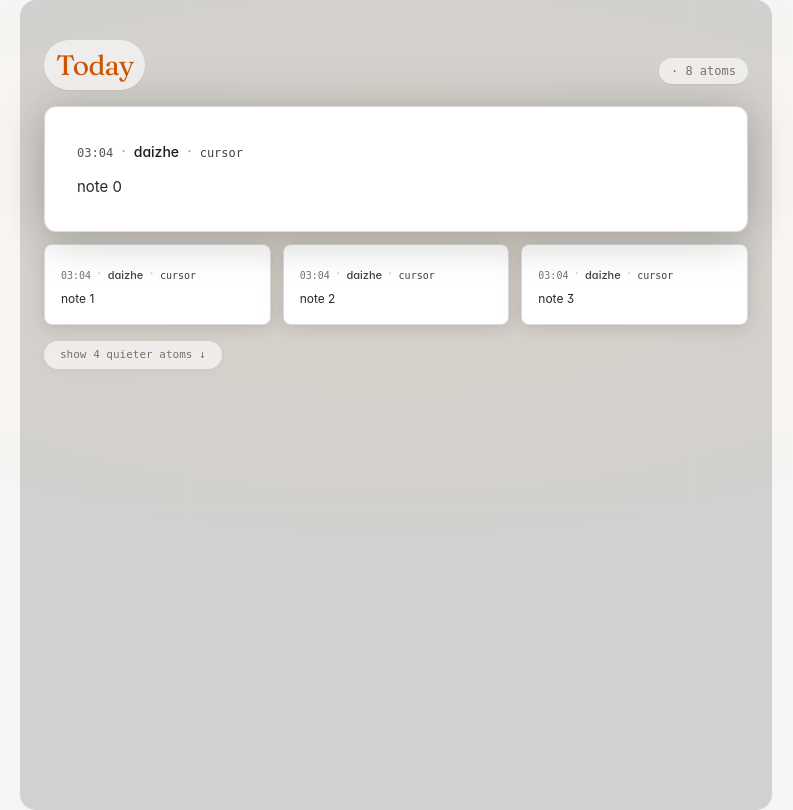
Test: v1.23 DailyMemoryPages render (Depth Canvas) › show-N-more reveals the rest then collapses with show-less
The width and height of the screenshot is (793, 810).
# Click expands.
What coordinates should you click on to do the following:
click the button with test id "day-show-more"
I would click on:
 (133, 355)
Its box is [44,341,222,369].
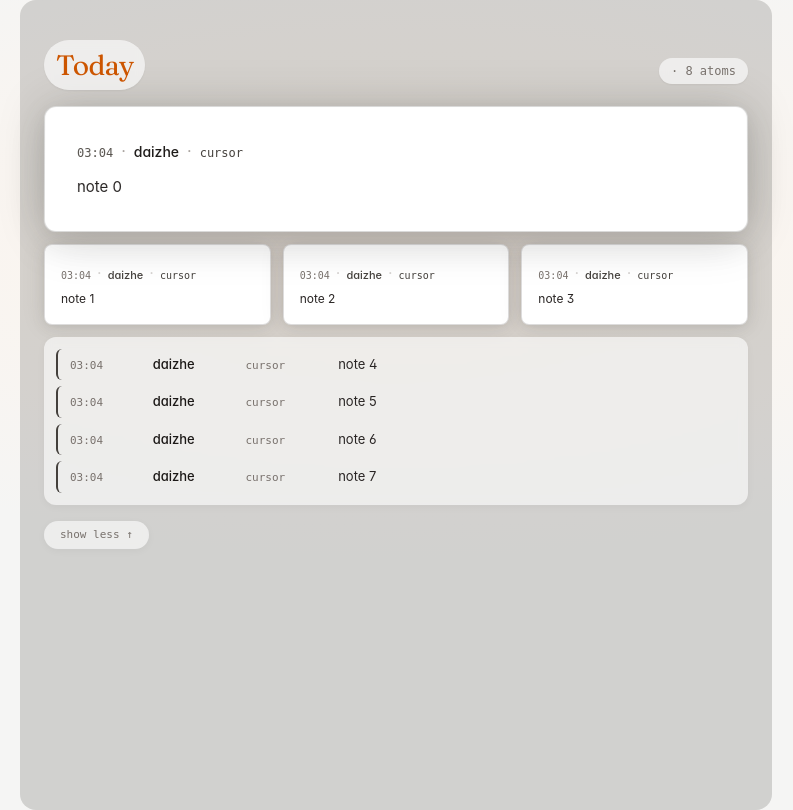
Expected: the list with test id "day-quieter-list" is shown, [44,337,748,505]
Expected: the number of buttons with test id "day-quieter-row" is 4, [56,349,736,380]; [56,386,736,418]; [56,424,736,455]; [56,461,736,493]
# show-less collapses back.
What coordinates should you click on to do the following:
click the button with test id "day-show-less"
I would click on:
 (96, 535)
Its box is [44,521,149,549].
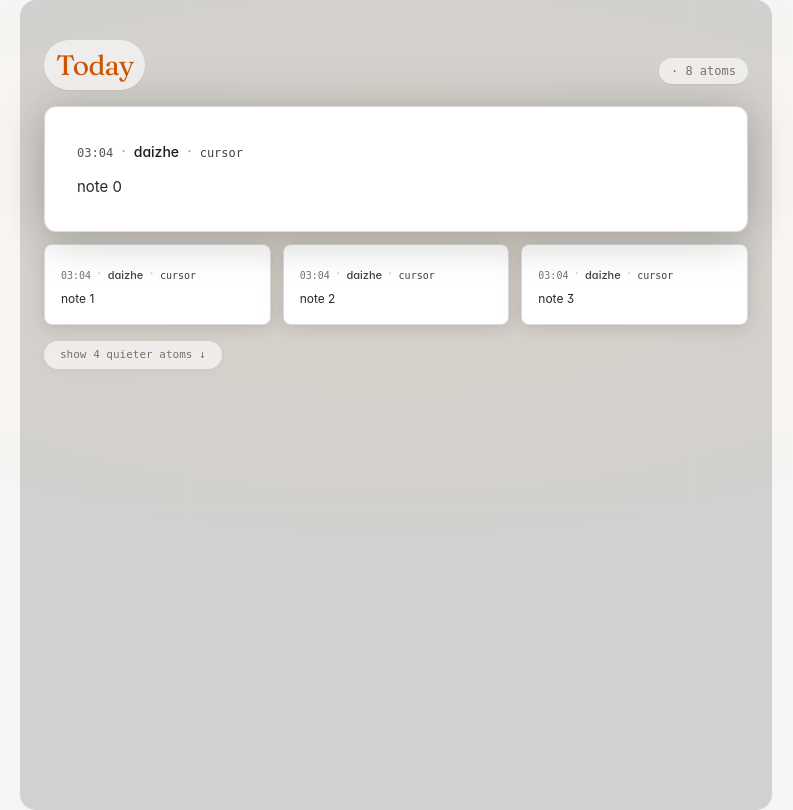
Expected: the list with test id "day-quieter-list" is gone
